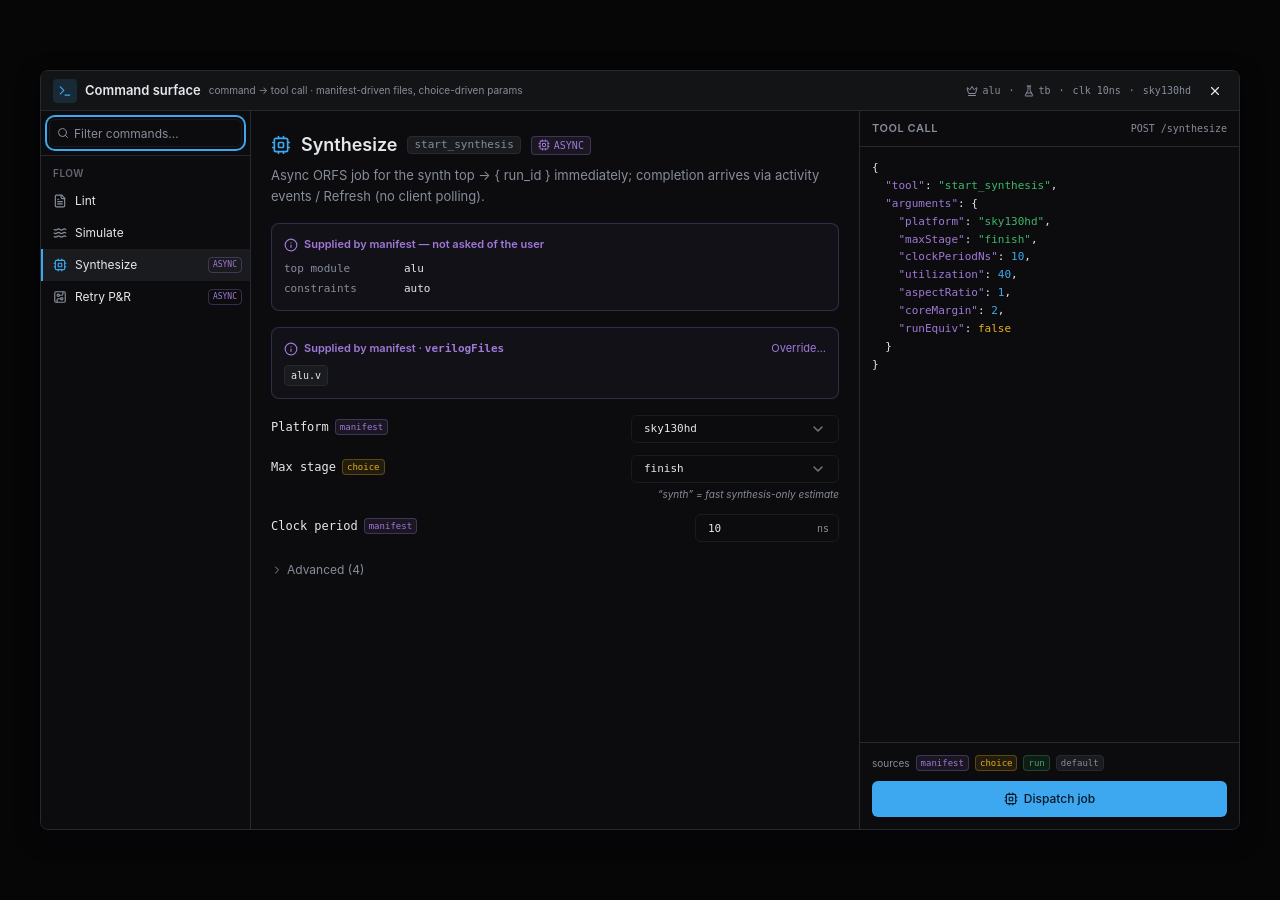
Scenario: CommandSurface — sign-in CTA + form-state restore (W4/L2) › ordinary failures keep the raw error — no CTA
What coordinates should you click on to do the following:
click the button with test id "command-surface-invoke"
I would click on:
 (1050, 799)
Its box is top-left (872, 781), bottom-right (1227, 817).
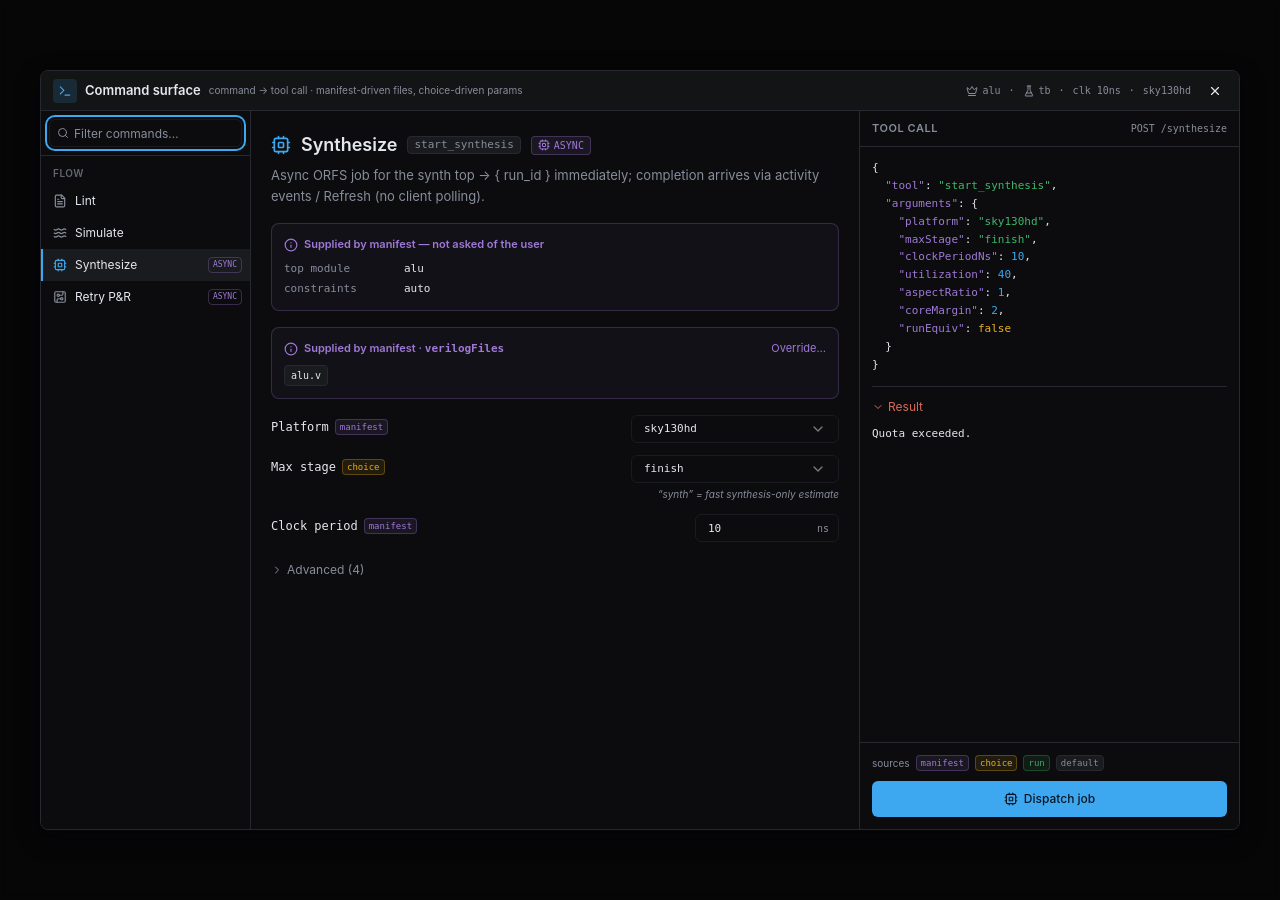
Check: the text "Quota exceeded." is shown, box top-left (872, 426), bottom-right (971, 440)
